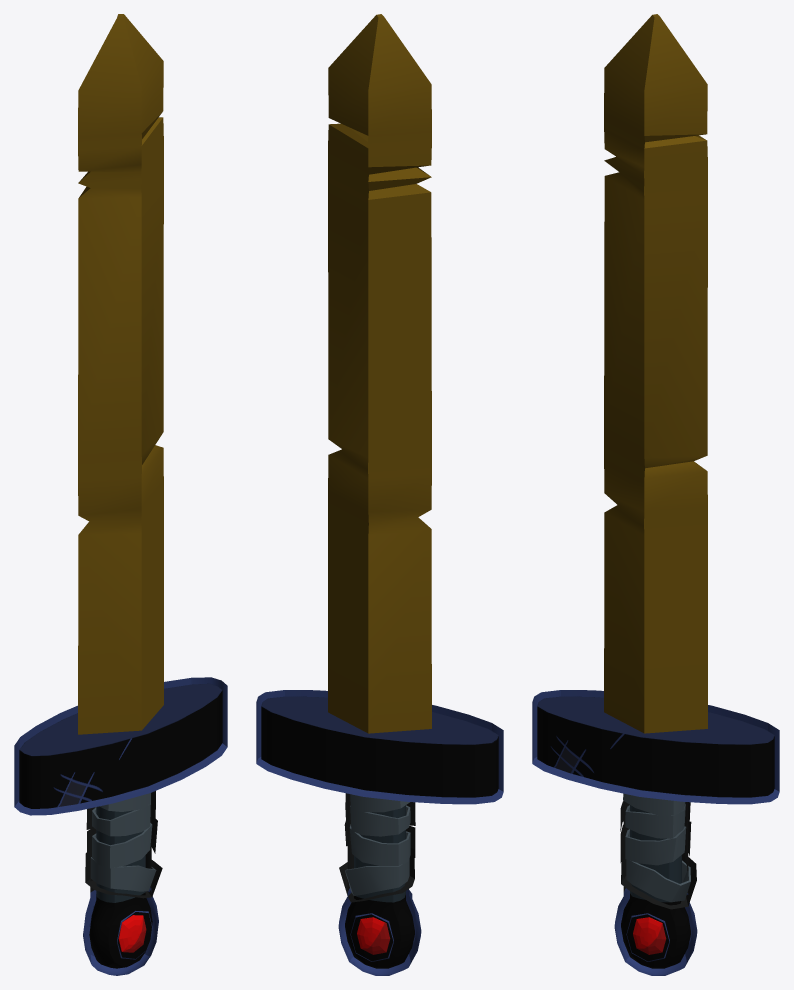
The model's file is Finn's Sword.fbx.
The picture shows the model from 3 angles, left to right: view 1: azimuth 30°, elevation 25°; view 2: azimuth 150°, elevation 25°; view 3: azimuth 330°, elevation 25°; orthographic projection.
Visible parts, largest first — view 1: Finn's Sword Outline, Finn's Sword; view 2: Finn's Sword Outline, Finn's Sword; view 3: Finn's Sword Outline, Finn's Sword.
Boxes of the visible parts, x1,y1,x2,y2 form: Finn's Sword Outline: [14, 14, 227, 975]; Finn's Sword: [19, 683, 222, 968]; Finn's Sword Outline: [256, 14, 503, 975]; Finn's Sword: [261, 696, 498, 968]; Finn's Sword Outline: [532, 14, 779, 975]; Finn's Sword: [537, 696, 774, 968].
Bounding box in the file's own units: 19.11 × 78.62 × 7.29.
Materials: 2 (2 with a texture image).
